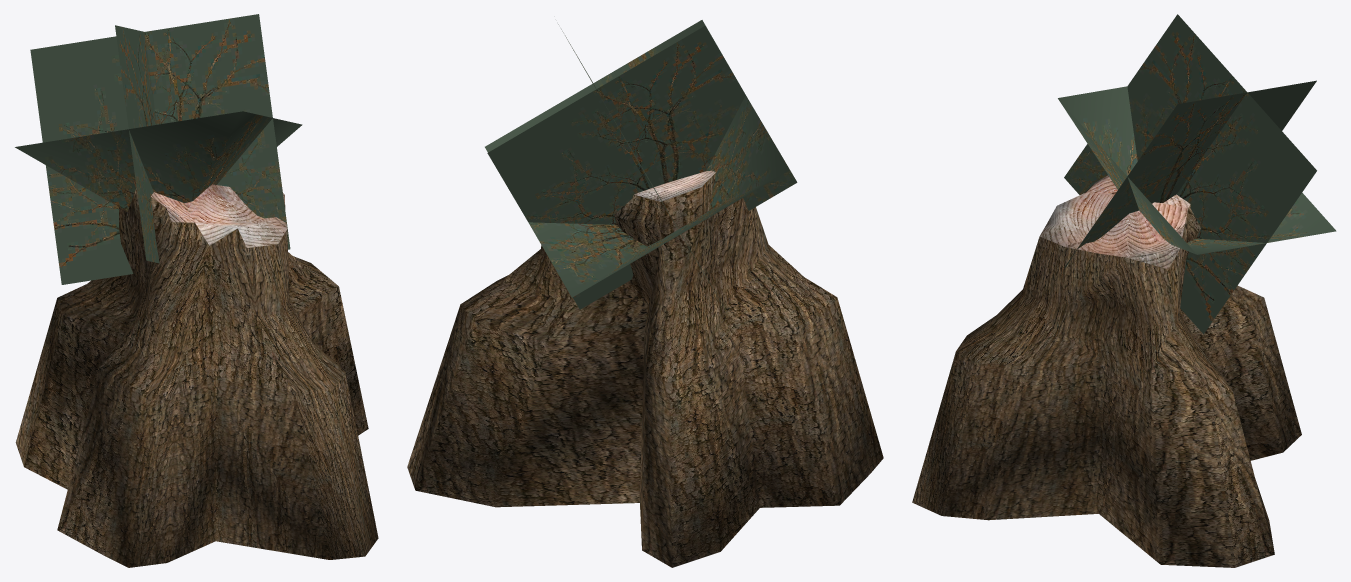
File: decd_oakstump_lg_l0.fbx
The picture shows the model from 3 angles, left to right: view 1: azimuth 30°, elevation 25°; view 2: azimuth 150°, elevation 25°; view 3: azimuth 270°, elevation 25°; orthographic projection. The views are drawn at different scales.
Parts seen in each view (by area): view 1: mesh_node; view 2: mesh_node; view 3: mesh_node.
Part boxes in pixels (box(x1,y1,x2,y2)): mesh_node: box(15, 14, 378, 567); mesh_node: box(407, 20, 883, 567); mesh_node: box(912, 14, 1336, 567).
Bounding box in the file's own units: 5.02 × 6.37 × 5.62.
